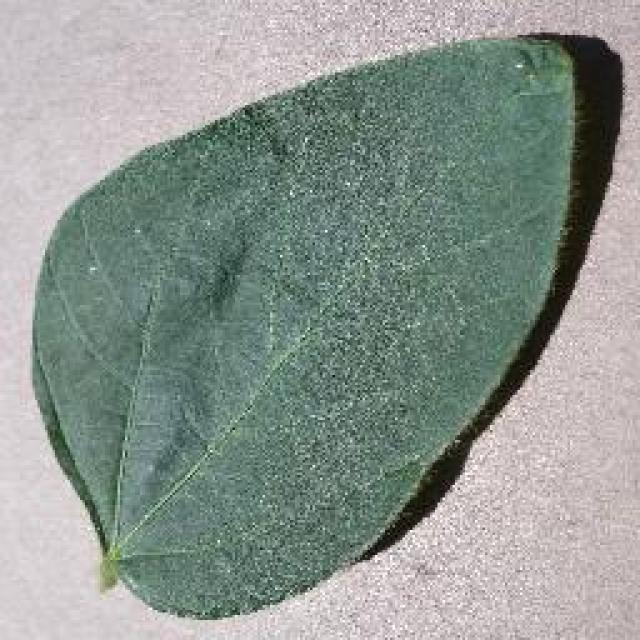Soy_healthy: (75, 66, 597, 535)
